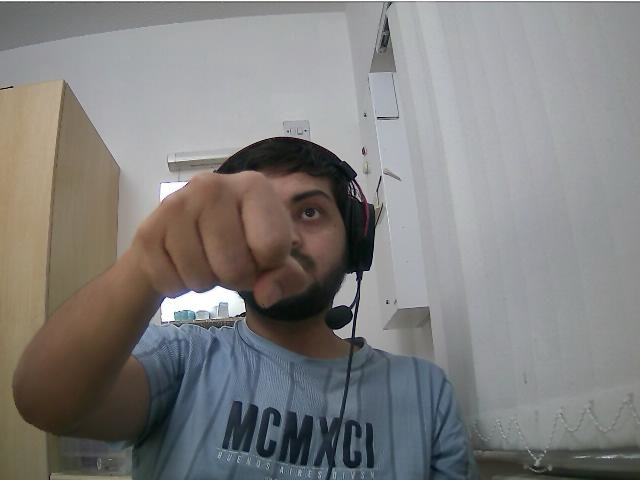hold: (135, 172, 305, 313)
